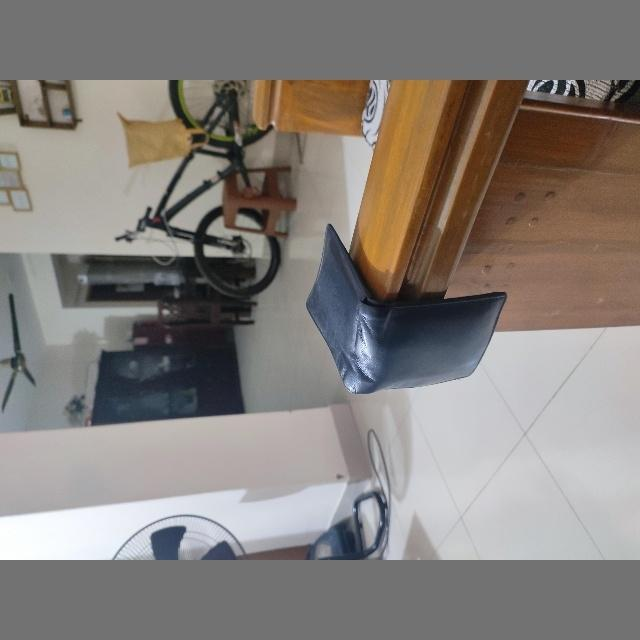Wallet: (305, 224, 507, 396)
